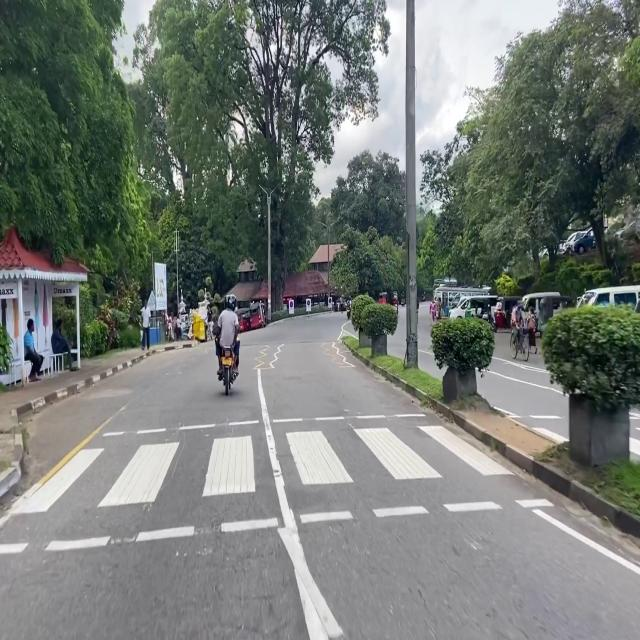bicycle: (511, 330, 529, 361)
bus: (434, 285, 489, 315)
motorcycle: (222, 348, 235, 395), (482, 308, 496, 332), (421, 290, 425, 302), (347, 309, 350, 320)
person: (216, 295, 239, 380), (24, 318, 43, 382), (51, 320, 72, 370), (511, 300, 523, 348), (141, 300, 150, 352), (527, 308, 537, 354), (175, 312, 181, 341), (436, 298, 442, 321), (430, 298, 435, 323), (339, 296, 344, 313), (347, 297, 351, 308)
three wheeler: (538, 293, 573, 326), (495, 296, 519, 328), (466, 297, 491, 318), (250, 302, 265, 329), (235, 308, 250, 332), (389, 292, 397, 305), (379, 292, 387, 304)
van: (578, 285, 640, 308), (522, 292, 569, 318), (450, 295, 497, 318)
